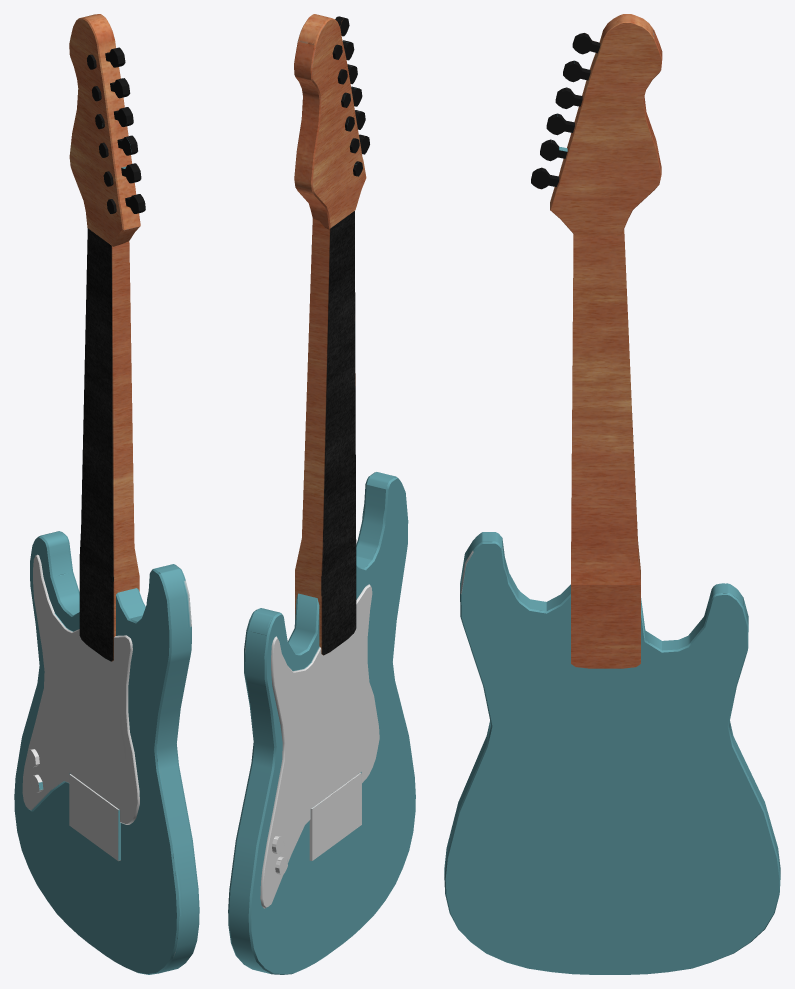
The model's file is guitar.glb.
3 renders of one model, left to right at view 1: azimuth 30°, elevation 25°; view 2: azimuth 150°, elevation 25°; view 3: azimuth 270°, elevation 25°, orthographic. The views are drawn at different scales.
Visible parts, largest first — view 1: pCube1, pCube4, pCube3, pCube5, pCube2; view 2: pCube1, pCube4, pCube3, pCube5, pCube2; view 3: pCube1, pCube4, pCube5.
Part boxes in pixels (<box>): pCube1: <box>14,531,199,974</box>; pCube4: <box>79,228,139,661</box>; pCube3: <box>22,554,139,824</box>; pCube5: <box>69,14,140,246</box>; pCube2: <box>69,774,120,861</box>; pCube1: <box>228,472,415,974</box>; pCube4: <box>295,211,356,655</box>; pCube3: <box>260,584,379,908</box>; pCube5: <box>294,14,366,229</box>; pCube2: <box>309,772,361,860</box>; pCube1: <box>444,532,780,974</box>; pCube4: <box>571,229,640,668</box>; pCube5: <box>550,14,662,235</box>.
Bounding box in the file's own units: 0.0418 × 1.25 × 0.3997.
Materials: 1 (1 with a texture image).
